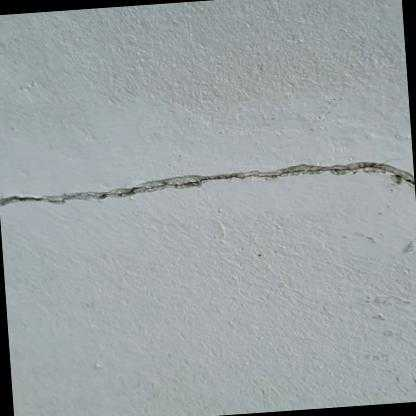crack: (1, 165, 415, 203)
